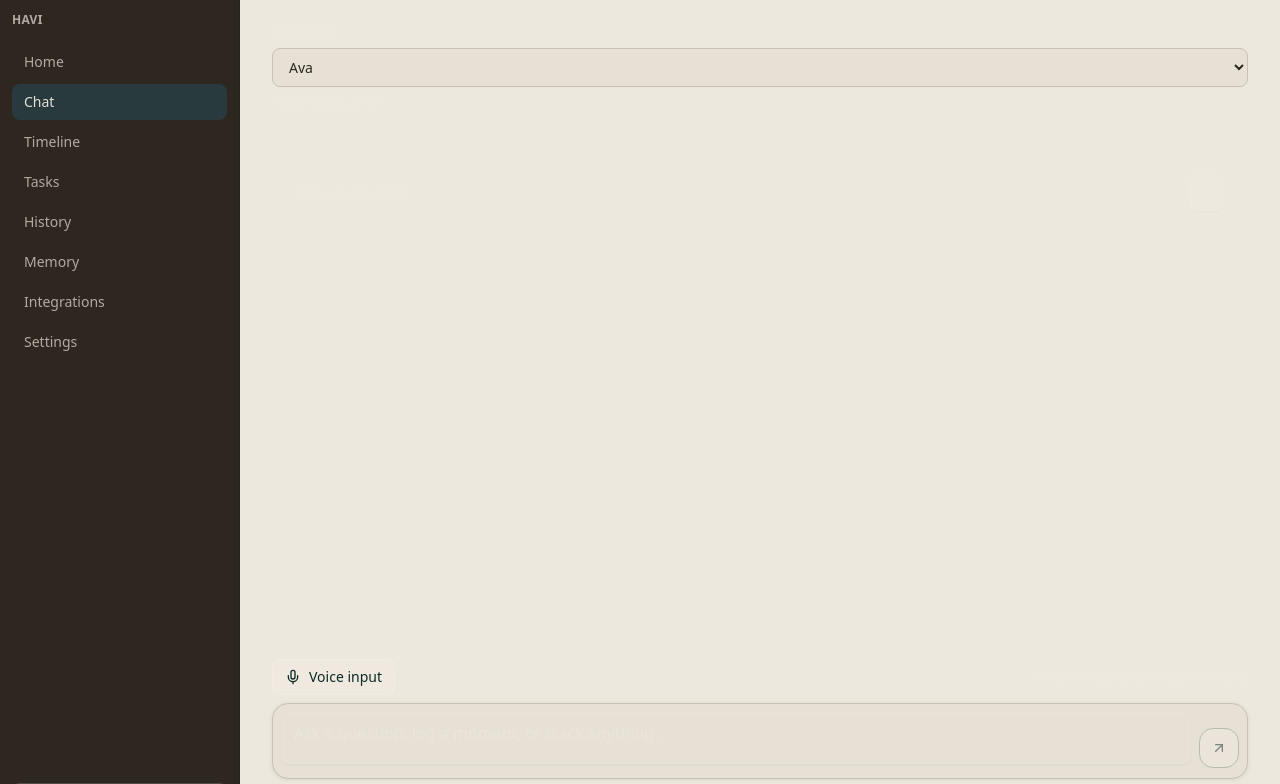
Test: Home zones – V1 foundations › shows Last chapter and Last when enough data is available
Click the button "Home" at (120, 62), box [12,44,227,80]
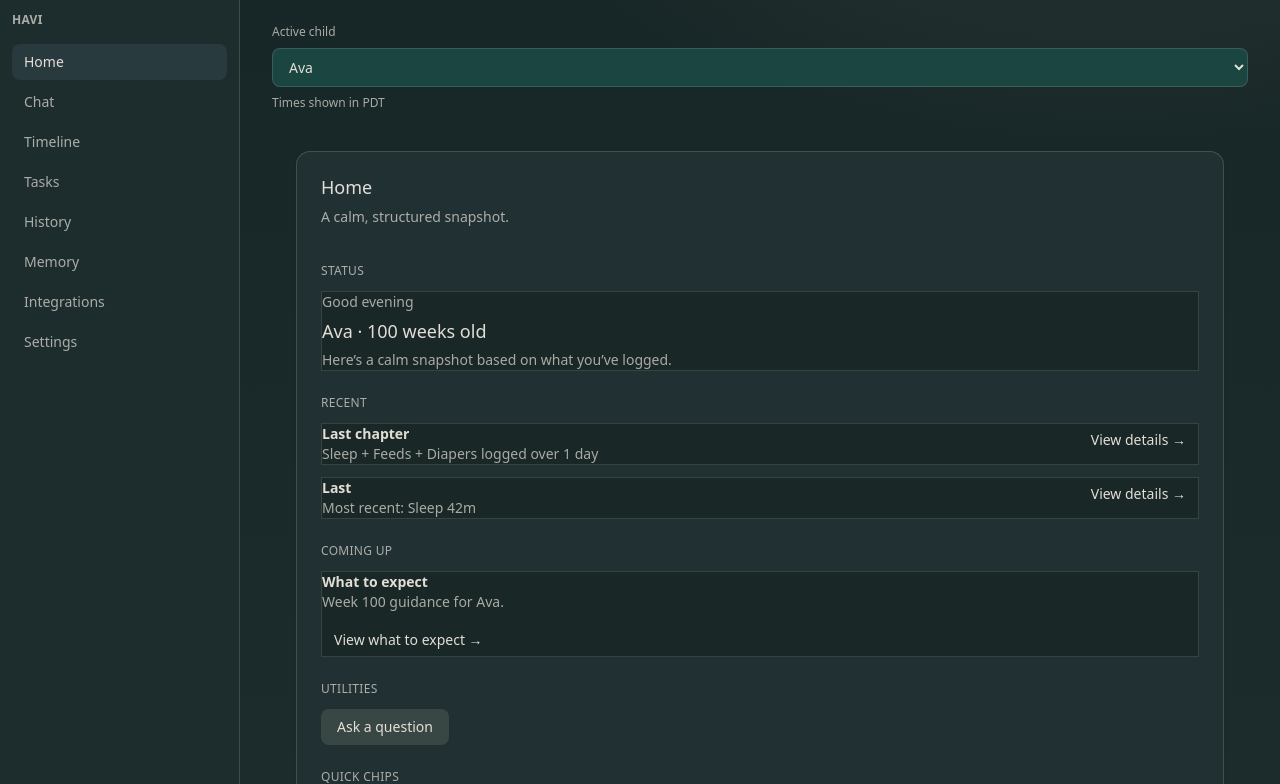
Expected: the text "Last chapter" is shown, [322,424,410,443]
Expected: the text "Last" is shown, [322,478,351,497]
